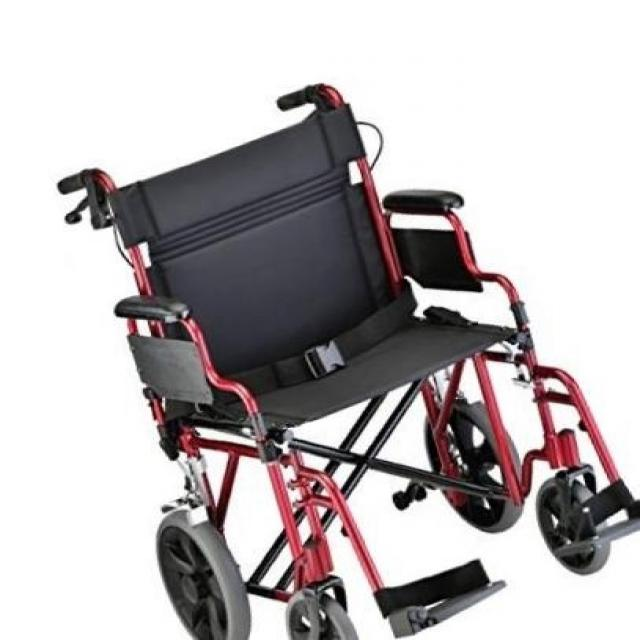wheelchair: (42, 76, 638, 640)
